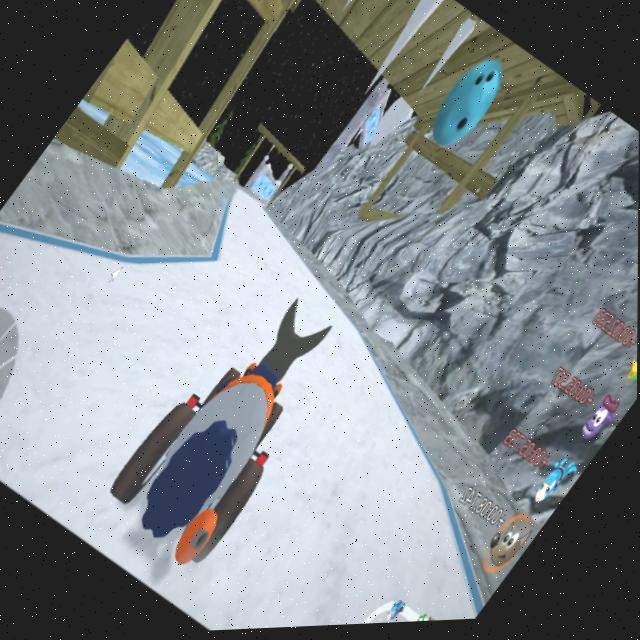off_track: (30, 0, 330, 278)
player_kart: (98, 276, 367, 581)
track: (221, 198, 300, 277)
